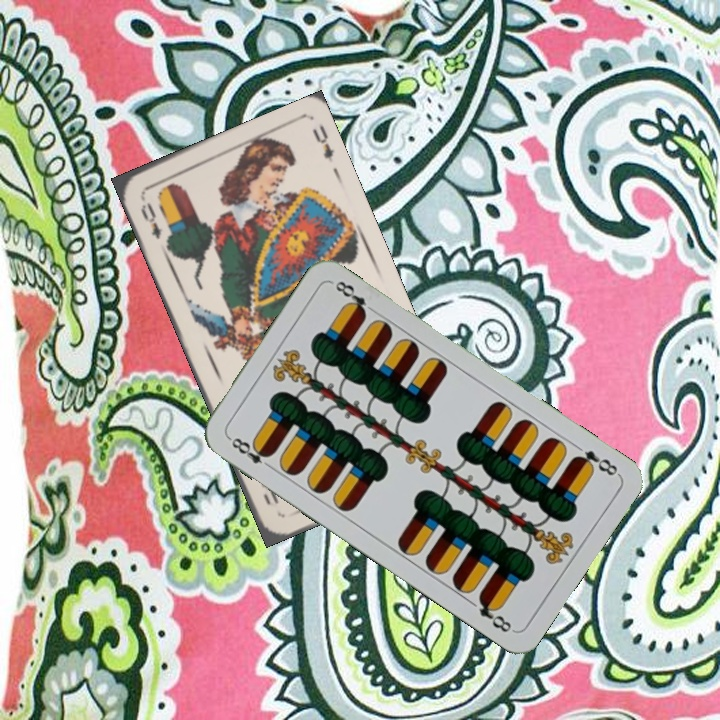E8: (224, 432, 276, 472), (568, 445, 621, 479)
EO: (136, 197, 165, 242)
